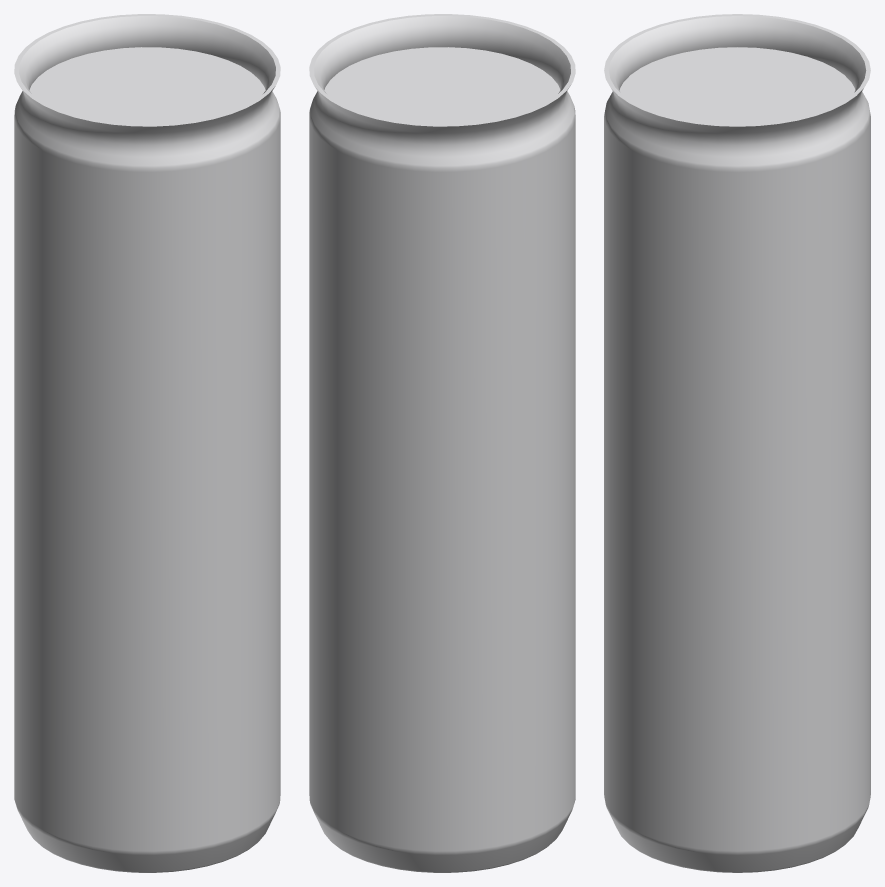
File: ASM-PBR Metallic Roughness.gltf
3 renders of one model, left to right at view 1: azimuth 30°, elevation 25°; view 2: azimuth 150°, elevation 25°; view 3: azimuth 270°, elevation 25°, orthographic.
Parts seen in each view (by area): view 1: polySurface1; view 2: polySurface1; view 3: polySurface1.
Boxes of the visible parts, x1=… form: polySurface1: x1=14, y1=14, x2=280, y2=872; polySurface1: x1=309, y1=14, x2=575, y2=872; polySurface1: x1=604, y1=14, x2=870, y2=872.
Bounding box in the file's own units: 0.1033 × 0.3215 × 0.1033.
1 material, 1 textured.
